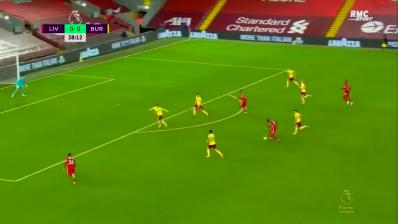football: (262, 136, 268, 141)
player: (204, 128, 226, 161), (62, 150, 80, 187), (191, 91, 212, 121), (292, 108, 312, 138), (148, 103, 170, 130), (233, 86, 250, 118), (10, 74, 29, 100), (340, 78, 356, 108), (297, 78, 314, 106), (265, 118, 282, 144), (284, 66, 300, 89)
